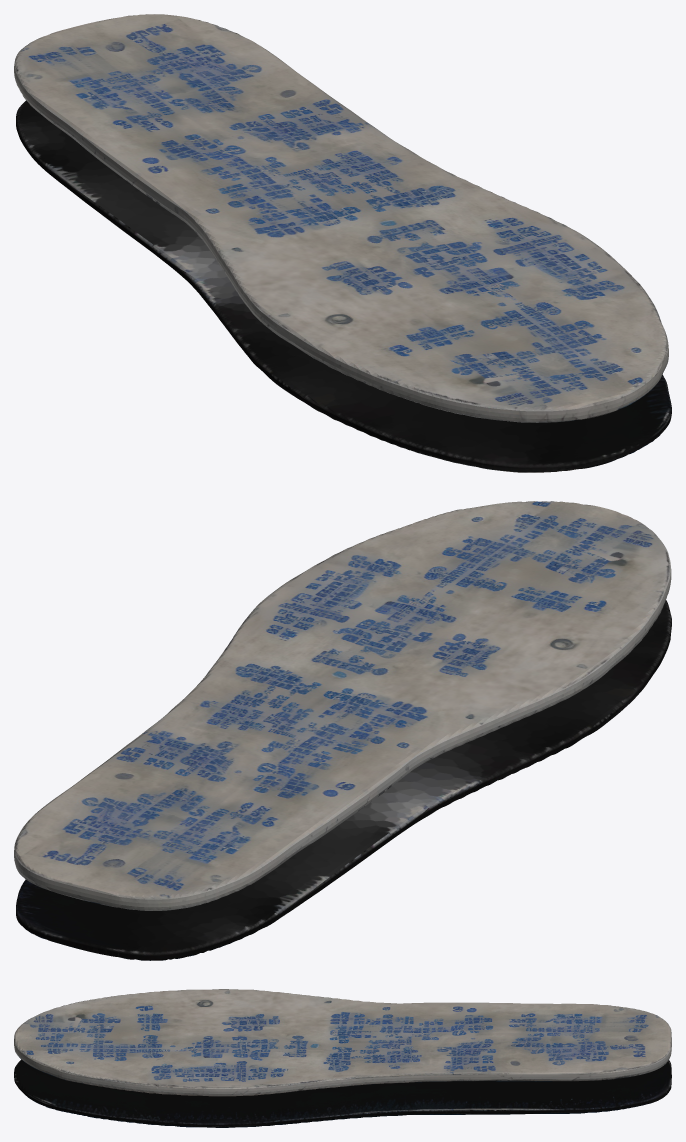
The model's file is plate.glb.
3 renders of one model, top to bottom at view 1: azimuth 30°, elevation 25°; view 2: azimuth 150°, elevation 25°; view 3: azimuth 270°, elevation 25°, orthographic. The views are drawn at different scales.
Parts seen in each view (by area): view 1: textured_mesh.obj; view 2: textured_mesh.obj; view 3: textured_mesh.obj.
Boxes of the visible parts, x1,y1,x2,y2 form: textured_mesh.obj: (14,14,671,472); textured_mesh.obj: (14,501,671,960); textured_mesh.obj: (14,989,671,1127).
Bounding box in the file's own units: 0.7153 × 0.1373 × 1.99.
Materials: 1 (1 with a texture image).
